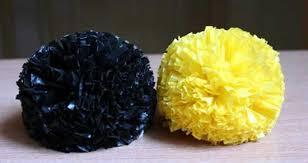Unknown plastic: (160, 25, 303, 146), (26, 19, 156, 152)
